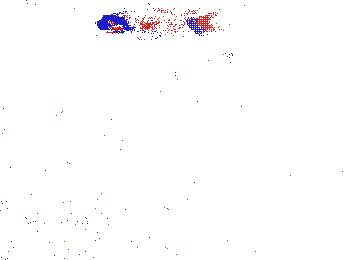red belly glassfish: (190, 51, 237, 67)
redtail glassfish: (96, 8, 213, 37)
